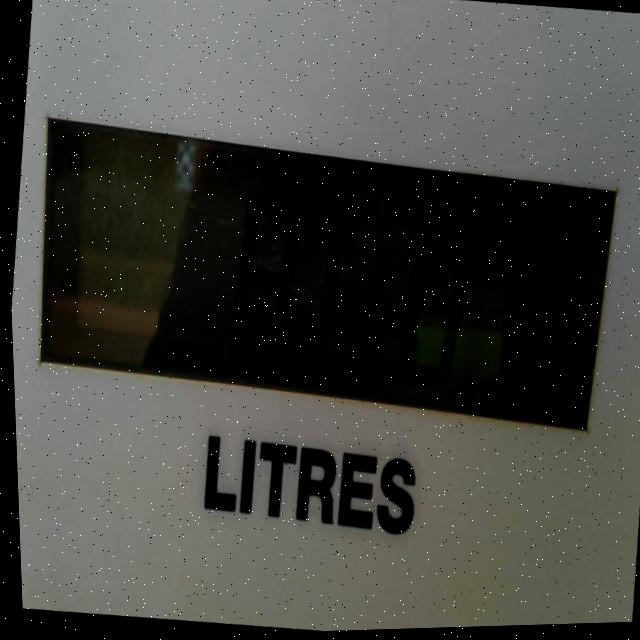.: (370, 362, 388, 389)
3: (481, 215, 562, 400)
6: (308, 201, 386, 377)
8: (391, 207, 473, 396), (221, 190, 303, 369)
